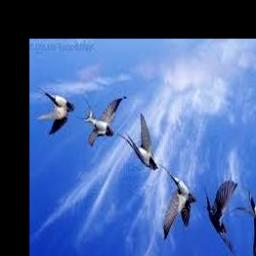Swallow: (157, 162, 196, 240), (203, 180, 237, 254), (79, 94, 126, 147), (117, 116, 158, 170), (37, 87, 74, 134), (235, 189, 256, 256)
